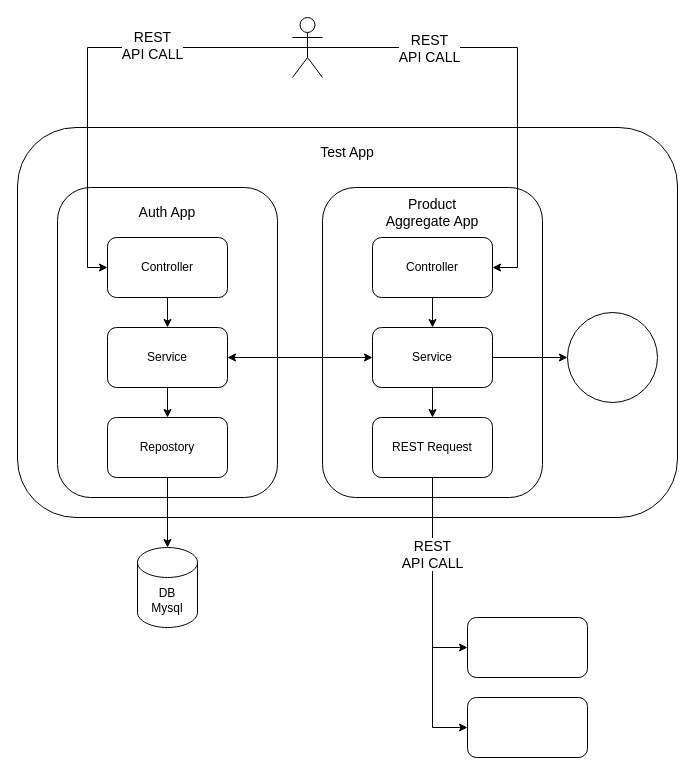
This 695x775 diagram has some shape labels left out. The shapes that lost their labels are listed below. From the top down, each one's centre as x and y in pixels, then its label:
the point at 307,47: User
the point at 612,357: Local MemCache
the point at 527,647: Efishery API
the point at 527,727: Converter API
